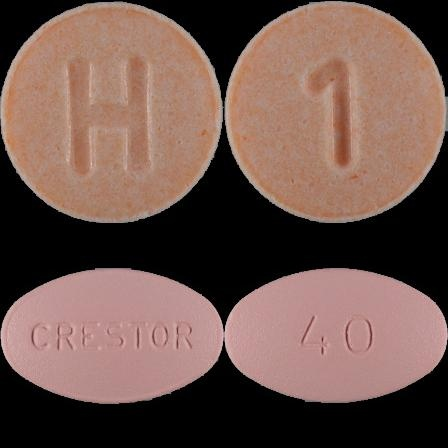50090-1088: (0, 0, 224, 224)
